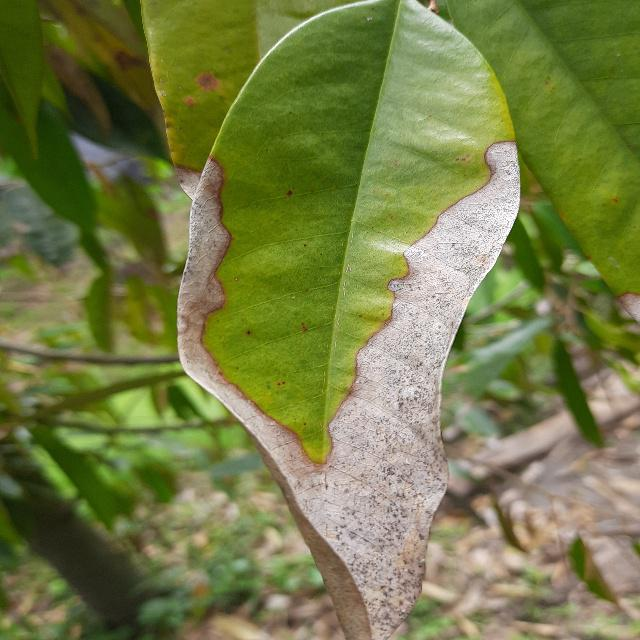Leaf Blight: (131, 0, 528, 639)
